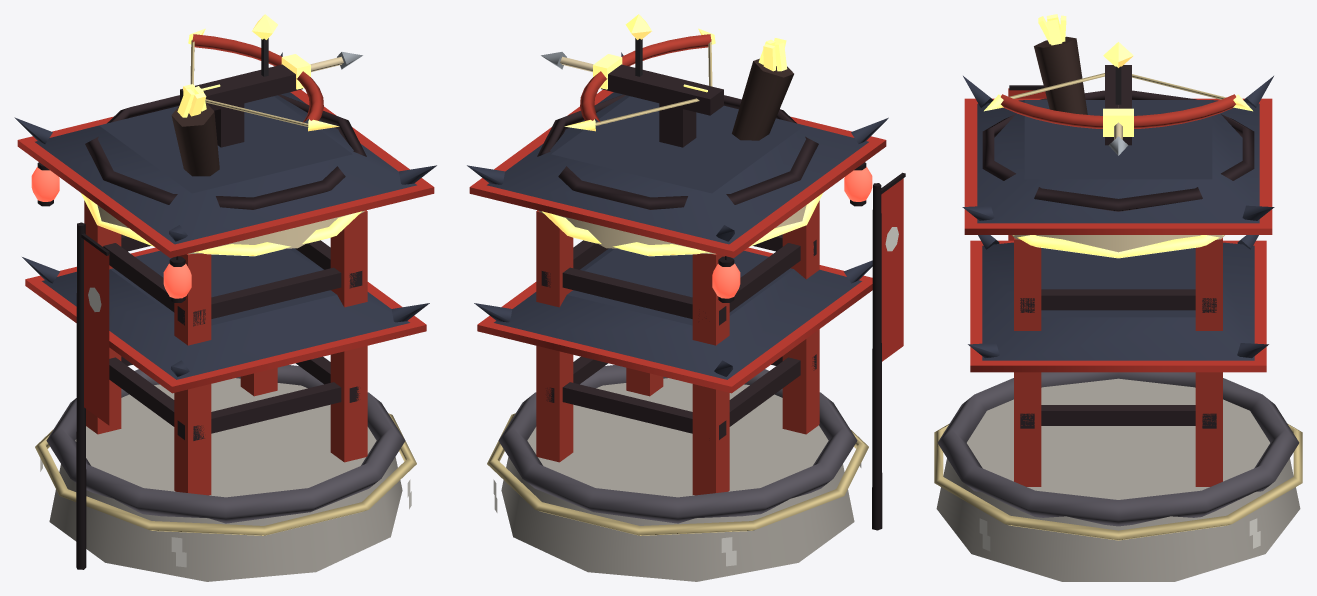
File: tower_archer_marksman.glb
3 renders of one model, left to right at view 1: azimuth 30°, elevation 25°; view 2: azimuth 150°, elevation 25°; view 3: azimuth 270°, elevation 25°, orthographic.
Parts seen in each view (by area): view 1: base, deco_eave_0_roof, deco_eave_1_roof, base_rim, deco_eave_0_rim, post_en, post_wn, deco_eave_1_rim, rail, deco_shimenawa_rope, deco_nobori_cloth, deco_nobori_pole (+18 smaller); view 2: base, deco_eave_0_roof, deco_eave_1_roof, base_rim, deco_eave_0_rim, post_es, post_ws, deco_eave_1_rim, deco_shimenawa_rope, post_wn, rail, deco_nobori_cloth (+18 smaller); view 3: base, deco_eave_0_roof, deco_eave_1_roof, base_rim, deco_eave_0_rim, deco_eave_1_rim, post_es, post_en, deco_shimenawa_rope, rail, beam_z_1_e, beam_z_0_e (+8 smaller).
Boxes of the visible parts, <box> form: base: <box>49,378,402,581</box>; deco_eave_0_roof: <box>35,92,416,244</box>; deco_eave_1_roof: <box>42,248,409,379</box>; base_rim: <box>46,365,405,523</box>; deco_eave_0_rim: <box>17,89,434,257</box>; post_en: <box>330,210,367,462</box>; post_wn: <box>174,253,211,495</box>; deco_eave_1_rim: <box>25,247,426,393</box>; rail: <box>85,94,366,209</box>; deco_shimenawa_rope: <box>35,413,416,535</box>; deco_nobori_cloth: <box>84,239,109,425</box>; deco_nobori_pole: <box>76,222,86,569</box>; base: <box>501,378,854,581</box>; deco_eave_0_roof: <box>487,92,868,244</box>; deco_eave_1_roof: <box>494,248,861,379</box>; base_rim: <box>498,365,857,523</box>; deco_eave_0_rim: <box>469,89,886,257</box>; post_es: <box>536,210,573,462</box>; post_ws: <box>692,253,729,495</box>; deco_eave_1_rim: <box>477,247,872,393</box>; deco_shimenawa_rope: <box>487,413,868,535</box>; post_wn: <box>782,200,819,434</box>; rail: <box>537,94,818,209</box>; deco_nobori_cloth: <box>881,178,903,361</box>; base: <box>936,378,1300,581</box>; deco_eave_0_roof: <box>977,100,1259,223</box>; deco_eave_1_roof: <box>982,242,1254,360</box>; base_rim: <box>937,372,1299,526</box>; deco_eave_0_rim: <box>964,98,1272,234</box>; deco_eave_1_rim: <box>970,240,1266,372</box>; post_es: <box>1195,238,1222,486</box>; post_en: <box>1014,238,1041,486</box>; deco_shimenawa_rope: <box>934,423,1302,540</box>; rail: <box>982,90,1254,211</box>; beam_z_1_e: <box>1041,289,1195,310</box>; beam_z_0_e: <box>1041,405,1195,425</box>.
Bounding box in the file's own units: 0.4387 × 0.59 × 0.4052.
